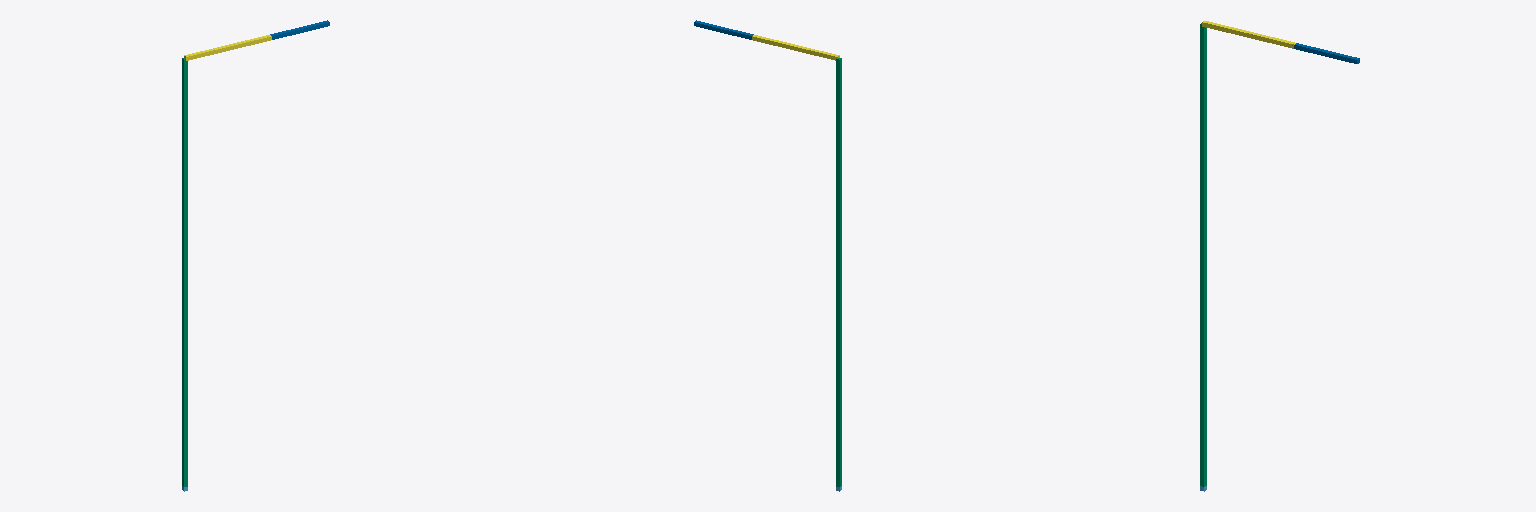
robot.urdf — CrustCrawler:
<?xml version="1.0" encoding="utf-8"?>
<!-- =================================================================================== -->
<!-- |    This document was autogenerated by xacro from crustcrawler.xacro             | -->
<!-- |    EDITING THIS FILE BY HAND IS NOT RECOMMENDED                                 | -->
<!-- =================================================================================== -->
<robot name="CrustCrawler" xmlns:xacro="http://www.ros.org/wiki/xacro">
  
  <link name="world"/>

  <joint name="fixed" type="fixed">
    <parent link="world"/>
    <child link="base"/>
  </joint>

  <!-- Base link -->
  <link name="base">
    <collision>
      <origin rpy="0 0 0" xyz="0 0 0.005"/>
      <geometry>
        <box size="0.01 0.01 0.01"/>
      </geometry>
    </collision>
    <visual>
      <origin rpy="0 0 0" xyz="0 0 0.005"/>
      <geometry>
        <box size="0.01 0.01 0.01"/>
      </geometry>
    </visual>
    <inertial>
      <origin rpy="0 0 0" xyz="0 0 0.005"/>
      <mass value="0.22501148645"/>
      <inertia ixx="0.0" ixy="0.0" ixz="0.0" iyy="0.0" iyz="0.0" izz="0.0"/>
    </inertial>
  </link>
  <joint name="joint_1" type="revolute">
    <axis xyz="0 0 1"/>
    <limit effort="1000.0" lower="0.0" upper="6.283" velocity="0.5"/>
    <parent link="base"/>
    <child link="link1"/>
    <origin rpy="0 0 0" xyz="0 0 0.01"/>
  </joint>

  <!-- link 1 -->
  <link name="link1">
    <collision>
      <origin rpy="0 0 0" xyz="0 0 0.5"/>
      <geometry>
        <box size="0.01 0.01 1.055"/>
      </geometry>
    </collision>
    <visual>
      <origin rpy="0 0 0" xyz="0 0 0.5275"/>
      <geometry>
        <box size="0.01 0.01 1.055"/>
      </geometry>
    </visual>
    <inertial>
      <origin rpy="0 0 0" xyz="0.5275 0 0"/>
      <mass value="0.22501148645"/>
      <inertia ixx="1.0" ixy="0.0" ixz="0.0" iyy="1.0" iyz="0.0" izz="1.0"/>
    </inertial>
  </link>
  <joint name="joint_2" type="revolute">
    <origin rpy="1.57075 0 0" xyz="0 0 1.055"/>
    <axis xyz="0 0 1"/>
    <limit effort="1000.0" lower="0.0" upper="6.283" velocity="0.5"/>
    <parent link="link1"/>
    <child link="link2"/>
  </joint>
  <!-- link 2 -->
  <link name="link2">
    <collision>
      <origin rpy="0 0 0" xyz="0.11 0 0"/>
      <geometry>
        <box size="0.22 0.01 0.01"/>
      </geometry>
    </collision>
    <visual>
      <origin rpy="0 0 0" xyz="0.11 0 0"/>
      <geometry>
        <box size="0.22 0.01 0.01"/>
      </geometry>
    </visual>
    <inertial>
      <origin rpy="0 0 0" xyz="0 0 0.11"/>
      <mass value="0.21285774246"/>
      <inertia ixx="1.0" ixy="0.0" ixz="0.0" iyy="1.0" iyz="0.0" izz="1.0"/>
    </inertial>
  </link>
  <joint name="joint_3" type="revolute">
    <axis xyz="0 0 1"/>
    <limit effort="1000.0" lower="0.0" upper="6.283" velocity="0.5"/>
    <parent link="link2"/>
    <child link="link3"/>
    <origin rpy="0 0 0" xyz="0.22 0 0"/>
  </joint>
  <!-- link 3 -->
  <link name="link3">
    <collision>
      <origin rpy="0 0 0" xyz="0.075 0 0"/>
      <geometry>
        <box size=" 0.15 0.01 0.01"/>
      </geometry>
    </collision>
    <visual>
      <origin rpy="0 0 0" xyz="0.075 0 0"/>
      <geometry>
        <box size="0.15 0.01 0.01 "/>
      </geometry>
    </visual>
    <inertial>
      <origin rpy="0 0 0" xyz="0.075 0 0 "/>
      <mass value="0.28725035108"/>
      <inertia ixx="1.0" ixy="0.0" ixz="0.0" iyy="1.0" iyz="0.0" izz="1.0"/>
    </inertial>
  </link>
  <!--
  <link name="link1">
    <visual>
      <geometry>
        <box size="${LinkWidth} ${LinkWidth} ${L1}"/>
      </geometry>
      <origin rpy="0 0 0" xyz="0 0 ${-L1+L1/2}"/>
    </visual>

    <collision>
      <geometry>
        <box size="${L2} ${LinkWidth} ${LinkWidth}"/>
      </geometry>
      <origin rpy="0 0 0" xyz="0 0 ${-L1+L1/2}"/>
    </collision>

    <inertial>
      <mass value="${m1}"/>
      <origin rpy="0 0 0" xyz="0 0 ${-L1+Lc}"/>
      <inertia ixx="1.0" ixy="0.0" ixz="0.0"
               iyy="1.0" iyz="0.0"
               izz="1.0"/>
    </inertial>
  </link>


  <link name="link2">
    <visual>
      <geometry>
        <box size="${L2} ${LinkWidth} ${LinkWidth}"/>
      </geometry>
      <origin rpy="0 0 0" xyz="${L2/2} 0 0"/>
    </visual>

    <collision>
      <geometry>
        <box size="${L2} ${LinkWidth} ${LinkWidth}"/>
      </geometry>
      <origin rpy="0 0 0" xyz="${L2/2} 0 0"/>
    </collision>

    <inertial>
      <mass value="${m2}"/>
      <origin rpy="0 0 0" xyz="0 0 ${Lc2}"/>
      <inertia ixx="1.0" ixy="0.0" ixz="0.0"
               iyy="1.0" iyz="0.0"
               izz="1.0"/>
    </inertial>
  </link>

  <link name="link3">
    <visual>
      <geometry>
        <box size="${Lcp} ${LinkWidth} ${LinkWidth}"/>
      </geometry>
      <origin rpy="0 0 0" xyz="${Lcp/2} 0 0"/>
    </visual>

    <collision>
      <geometry>
        <box size="${Lcp} ${LinkWidth} ${LinkWidth}"/>
      </geometry>
      <origin rpy="0 0 0" xyz="${Lcp/2} 0 0"/>
    </collision>

    <inertial>
      <mass value="${m3}"/>
      <origin rpy="0 0 0" xyz="0 0 ${Lc3}"/>
      <inertia ixx="1.0" ixy="0.0" ixz="0.0"
               iyy="1.0" iyz="0.0"
               izz="1.0"/>
    </inertial>
  </link>

  <link name="link4">
    <visual>
      <geometry>
        <box size="${LinkWidth} ${LinkWidth} ${LinkWidth}"/>
      </geometry>
      <origin rpy="0 0 0" xyz="0 0 0"/>
    </visual>

    <collision>
      <geometry>
        <box size="${Lcp} ${LinkWidth} ${LinkWidth}"/>
      </geometry>
      <origin rpy="0 0 0" xyz="${Lcp/2} 0 0"/>
    </collision>

    <inertial>
      <mass value="${mp}"/>
      <origin rpy="0 0 0" xyz="0 0 0"/>
      <inertia ixx="1.0" ixy="0.0" ixz="0.0"
               iyy="1.0" iyz="0.0"
               izz="1.0"/>
    </inertial>
  </link>


  <joint name="fixed" type="fixed">
    <parent link="world"/>
    <child link="base_link"/>
  </joint>

  <joint name="FirstJoint" type="revolute">
    <axis xyz="0 0 1"/>
    <limit effort="1000.0" lower="0.0" upper="${M_pi*2}" velocity="0.5"/>
    <parent link="base_link"/>
    <child link="link1"/>
    <origin xyz="0 0 ${L1}" rpy = "0 0 0"/>
  </joint>

  <joint name="SecondJoint" type="revolute">
    <axis xyz="0 0 1"/>
    <limit effort="1000.0" lower="-0.3" upper="${M_pi}" velocity="0.5"/>
    <parent link="link1"/>
    <child link="link2"/>
    <origin xyz="0 0 0" rpy="${M_pi/2} 0 0"/>
  </joint>


  <joint name="ThirdJoint" type="revolute">
    <axis xyz="0 0 1"/>
    <limit effort="1000.0" lower="-3" upper="3" velocity="0.5"/>
    <parent link="link2"/>
    <child link="link3"/>
    <origin xyz="${L2} 0 0" rpy="0 0 0"/>
  </joint>

  <joint name="PayloadJoint" type="fixed">
    <parent link="link3"/>
    <child link="link4"/>
    <origin xyz="${Lcp} 0 0" rpy="0 0 0"/>
  </joint> -->
</robot>

--- Facts derived from the render (not from the file) ---
3 views of the same robot in one strip: view 1: azimuth 30°, elevation 25°; view 2: azimuth 150°, elevation 25°; view 3: azimuth 330°, elevation 25° (orthographic).
Robot: CrustCrawler — 5 links, 4 joints (3 revolute, 1 fixed); root link world; default pose: all joints at 0.
Links seen in each view (by area): view 1: link1, link2; view 2: link1, link2; view 3: link1, link2.
Boxes of the visible links, x1,y1,x2,y2 form: link1: [182, 58, 187, 486]; link2: [184, 35, 271, 60]; link1: [836, 58, 841, 486]; link2: [752, 35, 839, 60]; link1: [1200, 23, 1206, 486]; link2: [1202, 21, 1295, 48].
Bounding box of the posed robot: 0.375 × 0.01 × 1.07 m (x, y, z).
Geometry: primitives only (box / cylinder / sphere), no mesh files.
